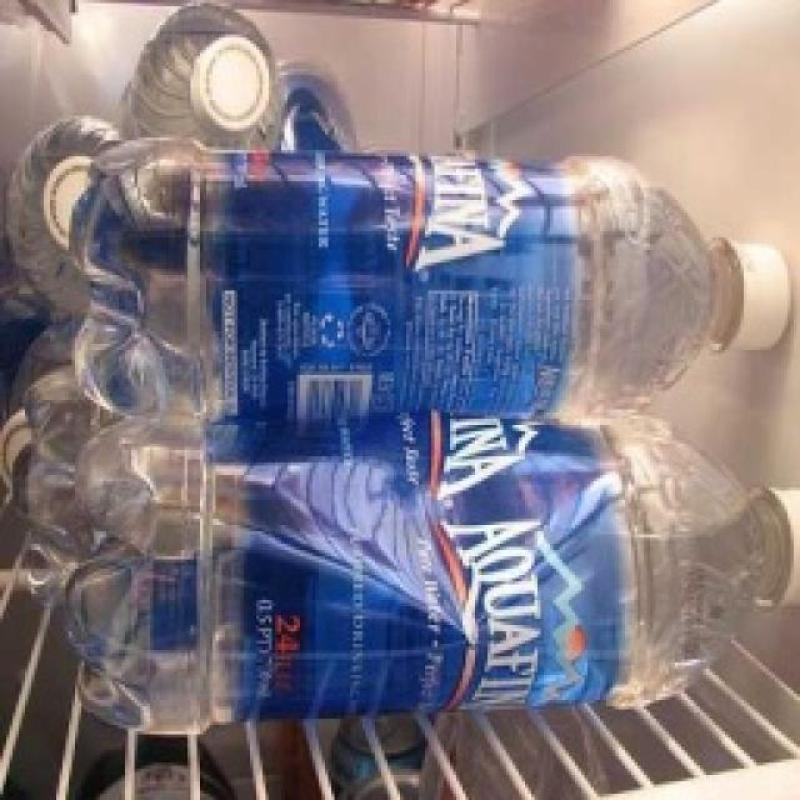botella: (65, 417, 800, 739), (65, 136, 800, 415), (122, 0, 288, 148), (3, 120, 128, 308), (316, 712, 432, 800)
